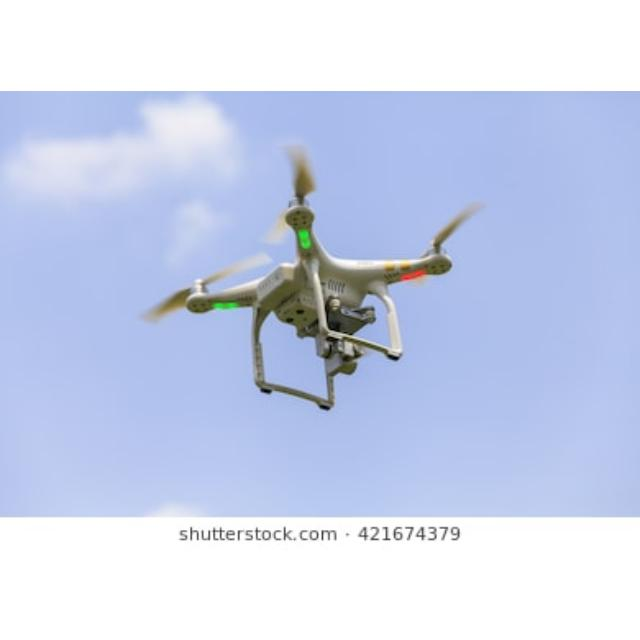Drones: (176, 164, 460, 418)
